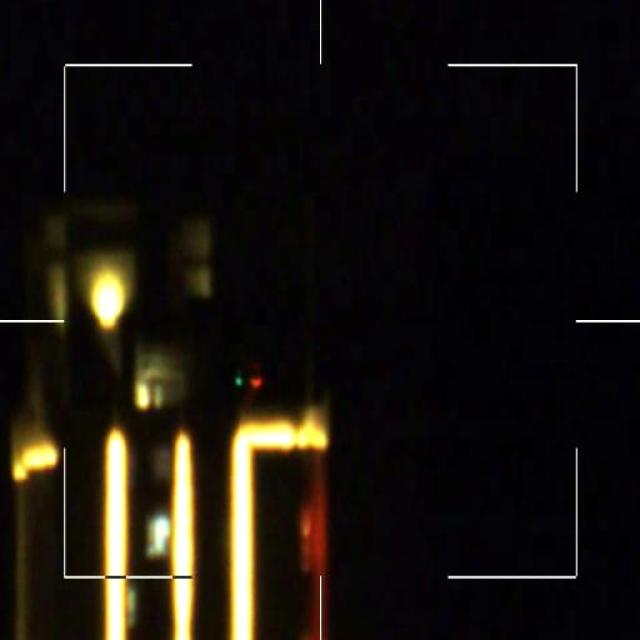bird: (231, 362, 262, 402)
